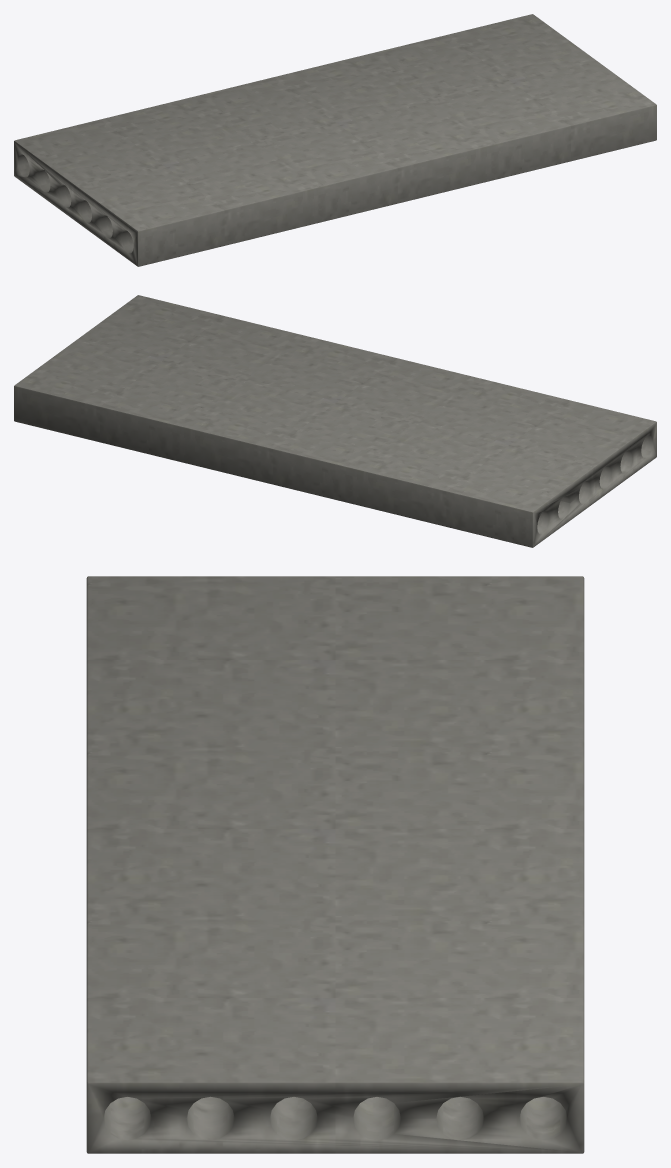
Rendered from EST-PRE-003_lod1.glb.
3 views of the same model, one above another, from view 1: azimuth 30°, elevation 25°; view 2: azimuth 150°, elevation 25°; view 3: azimuth 270°, elevation 25° (orthographic). The views are drawn at different scales.
Visible parts, largest first — view 1: EST-PRE-003_laje; view 2: EST-PRE-003_laje; view 3: EST-PRE-003_laje.
Boxes of the visible parts, <box> form: EST-PRE-003_laje: <box>14,14,656,266</box>; EST-PRE-003_laje: <box>14,295,656,547</box>; EST-PRE-003_laje: <box>86,576,584,1153</box>.
Size of the model in its own units: 3 by 0.2 by 1.25.
1 material, 1 textured.
